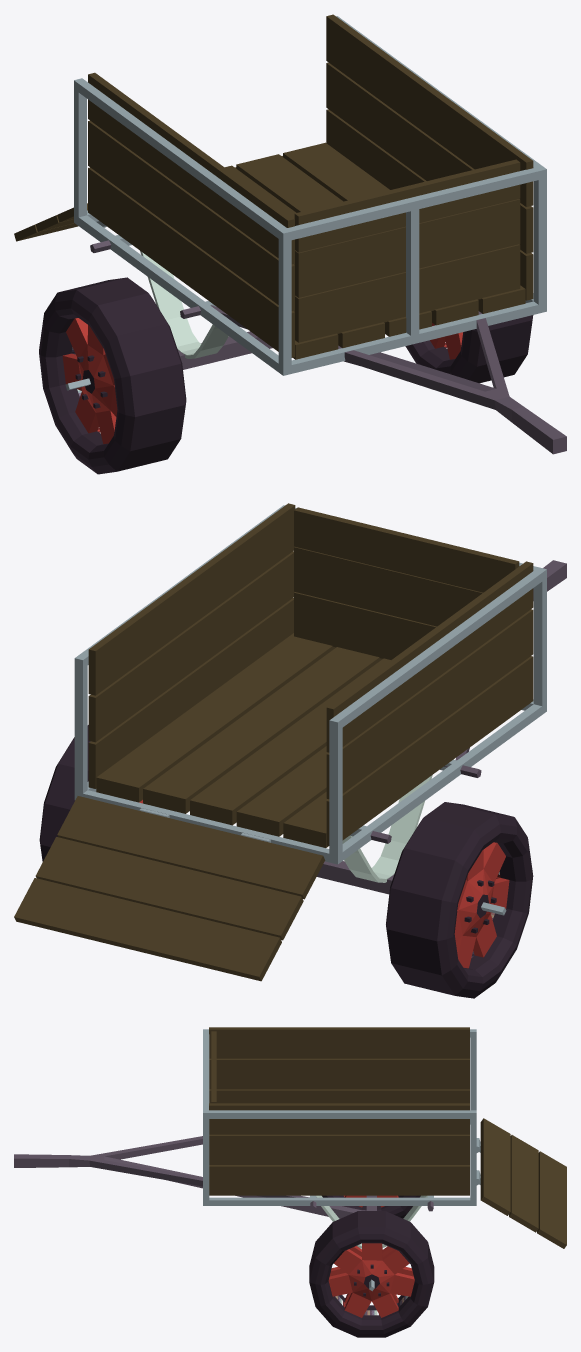
The model's file is Телега.fbx.
3 views of the same model, one above another, from view 1: azimuth 30°, elevation 25°; view 2: azimuth 150°, elevation 25°; view 3: azimuth 270°, elevation 25° (orthographic). The views are drawn at different scales.
Parts seen in each view (by area): view 1: Кузов прицепа, Правое колесо, Левое колесо, Задняя крышка; view 2: Кузов прицепа, Задняя крышка, Правое колесо, Левое колесо; view 3: Кузов прицепа, Левое колесо, Задняя крышка, Правое колесо.
Part boxes in pixels (x1,y1,x2,y2): Кузов прицепа: (65, 14, 566, 454); Правое колесо: (39, 277, 186, 474); Левое колесо: (405, 315, 533, 383); Задняя крышка: (14, 156, 282, 241); Кузов прицепа: (74, 503, 566, 915); Задняя крышка: (14, 796, 325, 981); Правое колесо: (386, 802, 533, 998); Левое колесо: (39, 725, 142, 861); Кузов прицепа: (14, 1027, 476, 1291); Левое колесо: (309, 1211, 434, 1337); Задняя крышка: (476, 1118, 566, 1248); Правое колесо: (322, 1195, 420, 1218).
Size of the model in its own units: 154 by 107 by 259.
